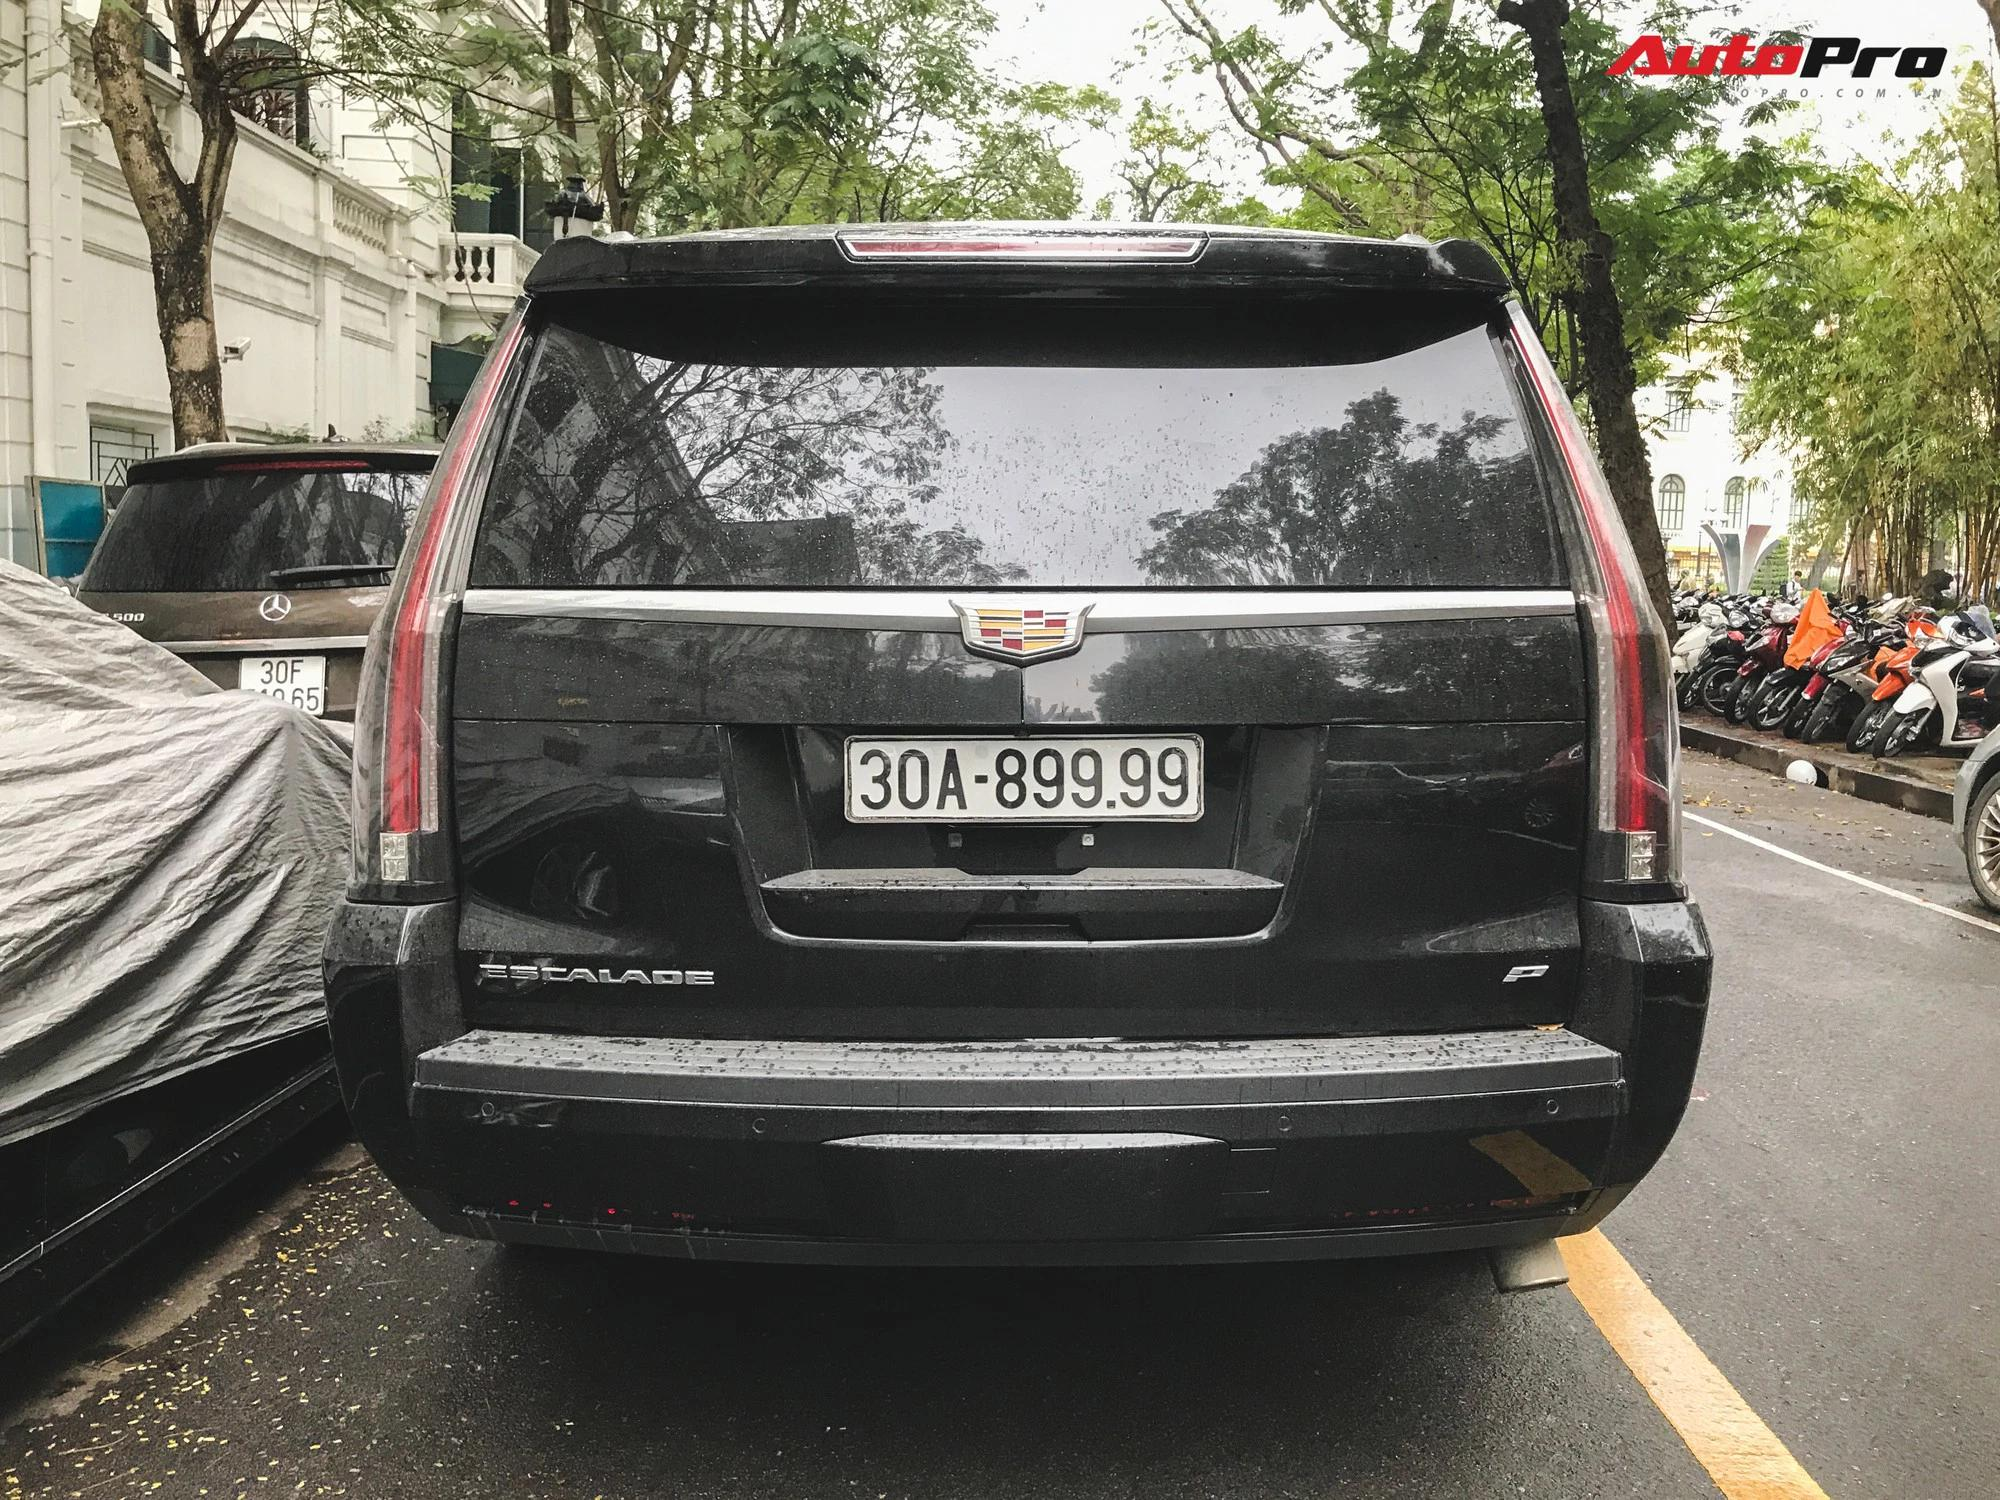numplate: (839, 718, 1209, 825)
